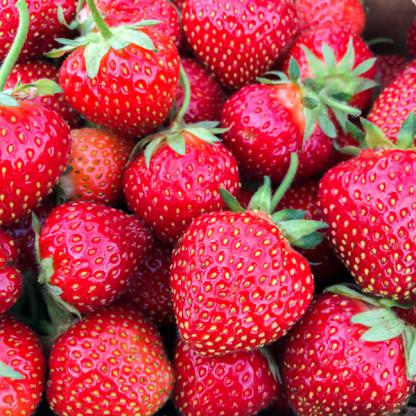strawberry: (171, 208, 312, 354), (316, 134, 416, 298), (286, 290, 416, 415), (44, 308, 171, 416), (122, 118, 236, 234), (58, 23, 177, 132), (40, 199, 150, 314), (224, 74, 334, 180), (182, 0, 298, 83), (0, 91, 69, 224)
